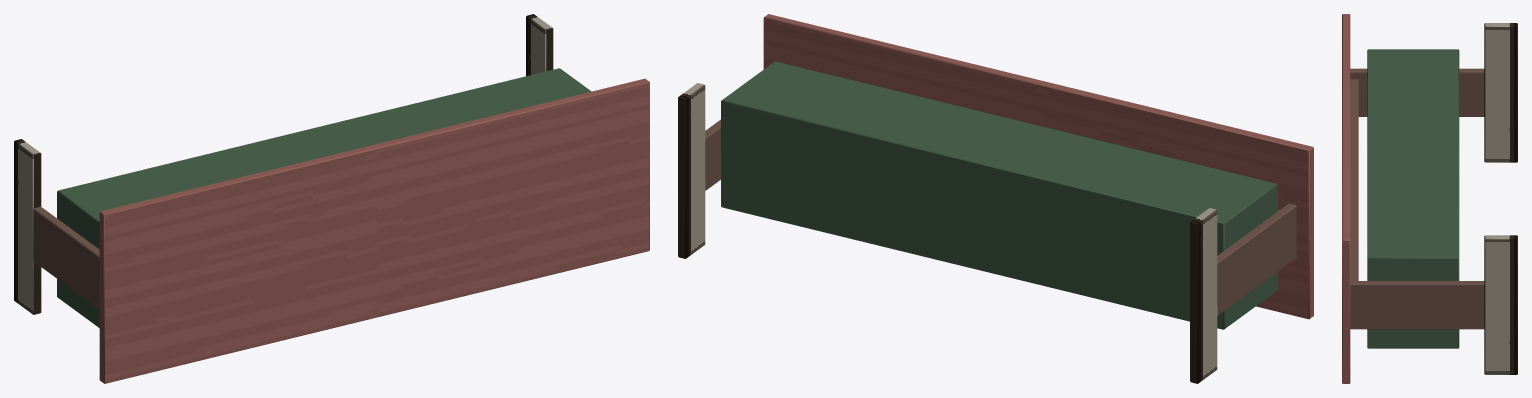
The model's file is prop_desk_04.glb.
3 renders of one model, left to right at view 1: azimuth 30°, elevation 25°; view 2: azimuth 150°, elevation 25°; view 3: azimuth 270°, elevation 25°, orthographic. The views are drawn at different scales.
Visible parts, largest first — view 1: prop_desk3; view 2: prop_desk3; view 3: prop_desk3.
Part boxes in pixels (x1=…): prop_desk3: x1=14, y1=14, x2=649, y2=383; prop_desk3: x1=678, y1=14, x2=1313, y2=383; prop_desk3: x1=1342, y1=14, x2=1517, y2=383.
Size of the model in its own units: 128 by 38 by 42.
Materials: 8 (8 with a texture image).
